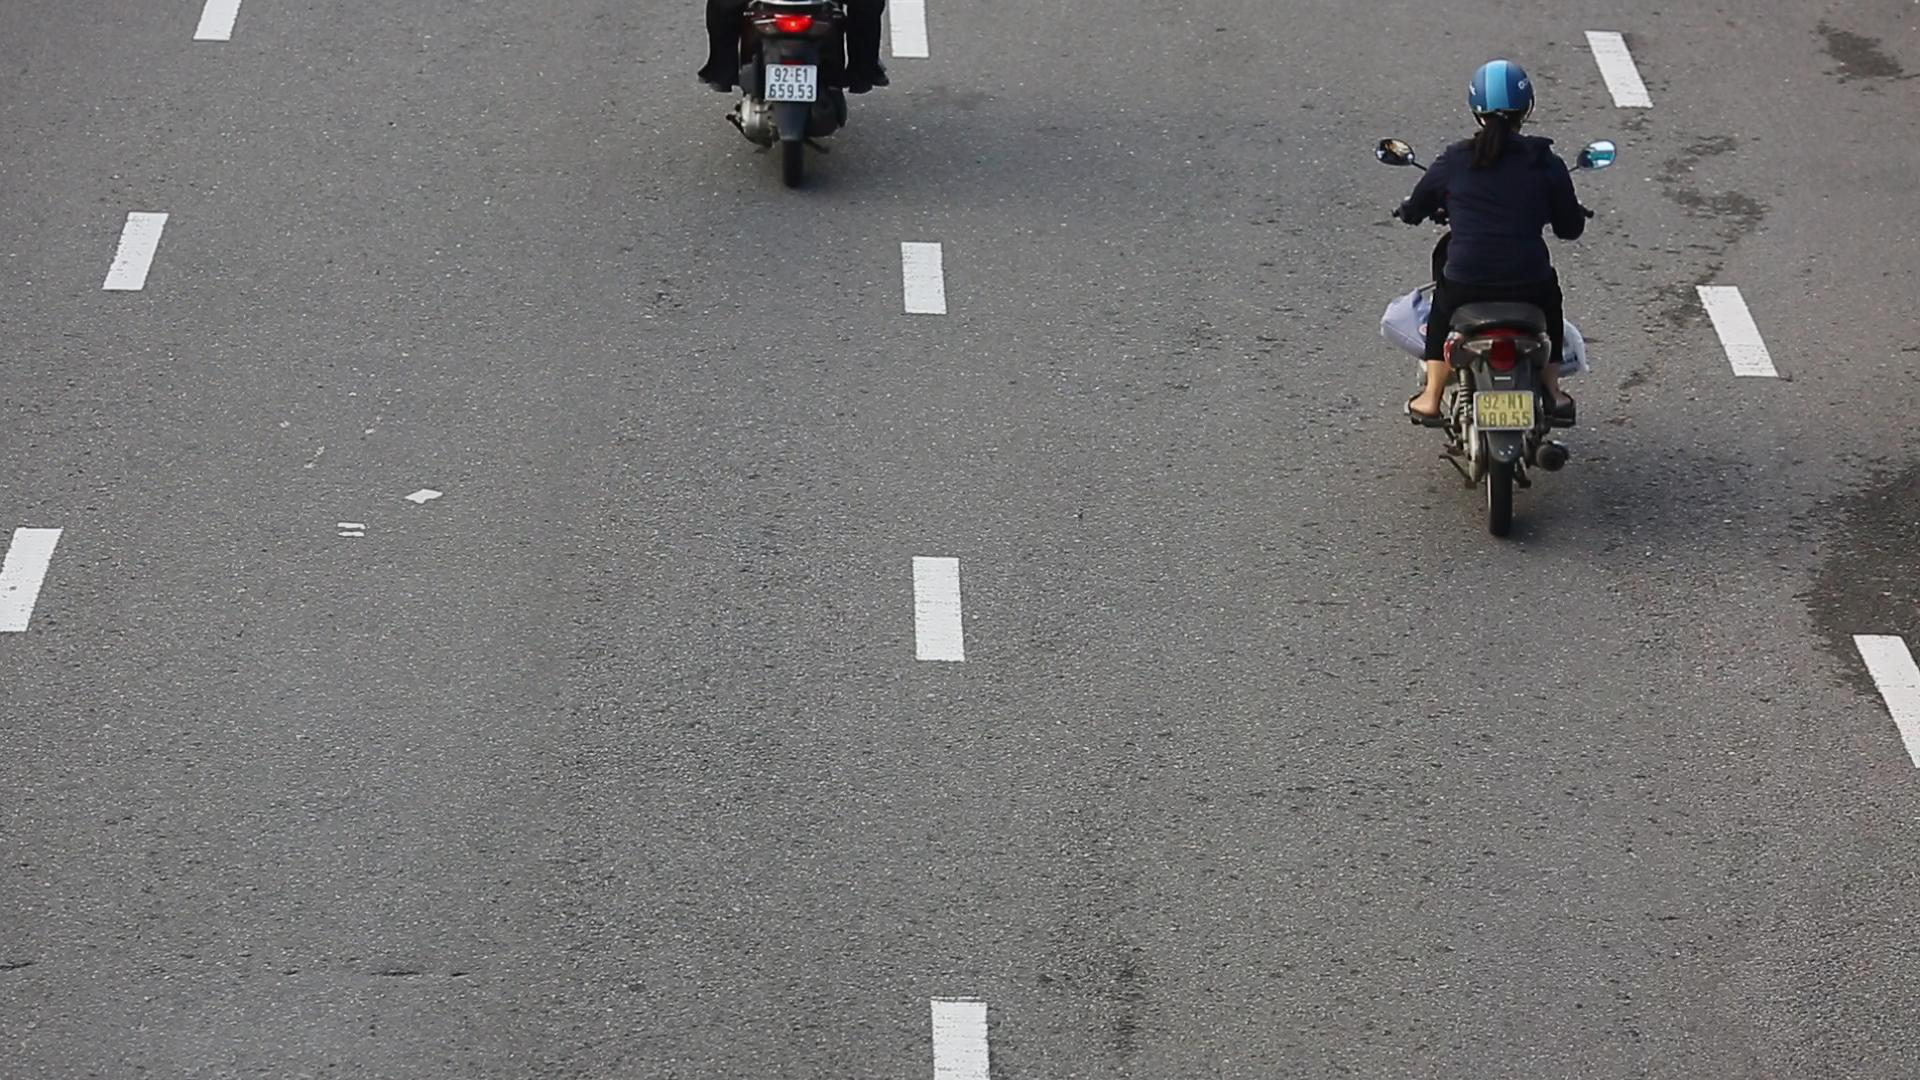motobike: (1367, 45, 1621, 549)
